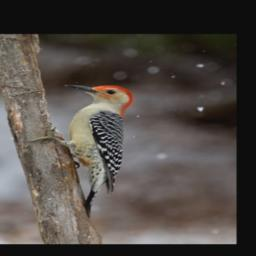Woodpecker: (25, 84, 133, 216)
